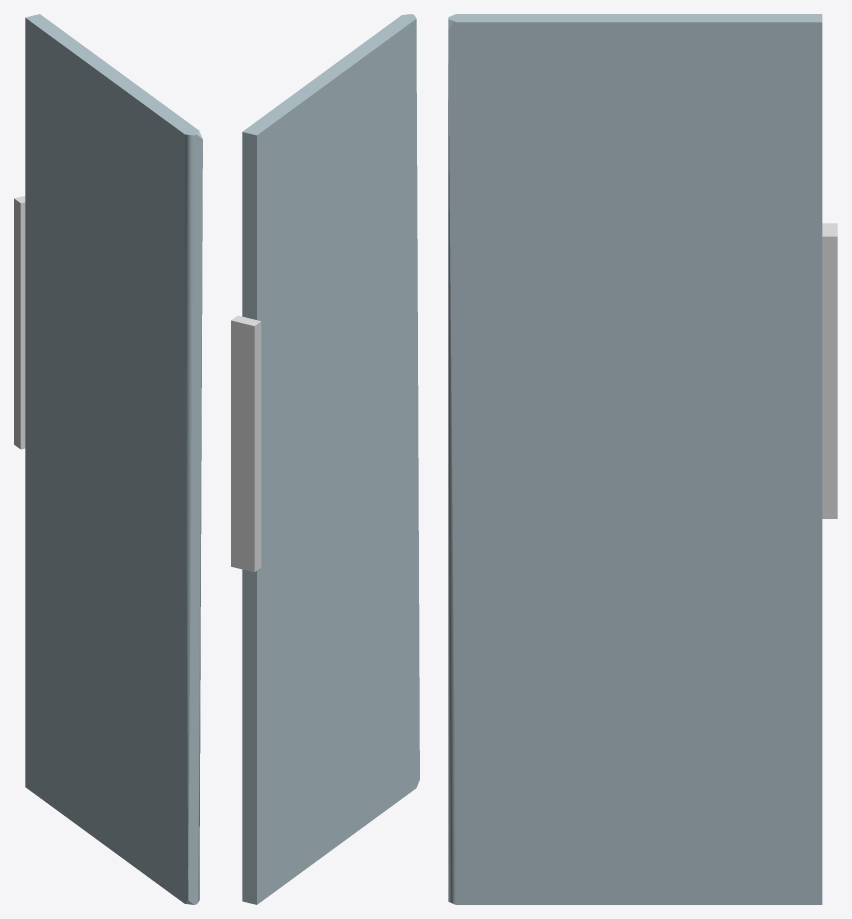
Rendered from urinal_screen.glb.
The picture shows the model from 3 angles, left to right: view 1: azimuth 30°, elevation 25°; view 2: azimuth 150°, elevation 25°; view 3: azimuth 270°, elevation 25°; orthographic projection. The views are drawn at different scales.
Parts seen in each view (by area): view 1: urinal_screen_stall, urinal_screen_chrome; view 2: urinal_screen_stall, urinal_screen_chrome; view 3: urinal_screen_stall, urinal_screen_chrome.
Boxes of the visible parts, left/top/right/bottom form: urinal_screen_stall: left=25, top=14, right=202, bottom=904; urinal_screen_chrome: left=14, top=195, right=25, bottom=449; urinal_screen_stall: left=242, top=14, right=419, bottom=904; urinal_screen_chrome: left=231, top=315, right=261, bottom=572; urinal_screen_stall: left=448, top=14, right=822, bottom=904; urinal_screen_chrome: left=822, top=223, right=837, bottom=518.
Size of the model in its own units: 0.04 by 1.25 by 0.5.
